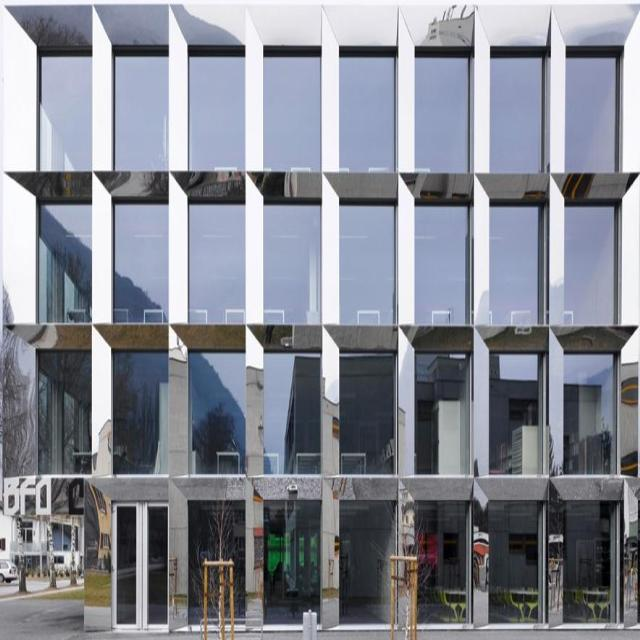door: (110, 506, 171, 635)
window: (113, 349, 167, 475), (265, 352, 320, 472), (39, 49, 93, 171), (191, 51, 245, 173), (341, 51, 395, 173), (492, 53, 546, 175), (37, 200, 91, 322), (189, 202, 243, 324), (339, 202, 393, 324), (491, 204, 545, 326), (191, 351, 245, 473), (340, 352, 394, 474), (489, 356, 543, 478), (265, 498, 319, 620), (189, 502, 243, 624), (113, 46, 167, 167), (265, 48, 319, 169), (415, 48, 469, 169), (567, 50, 621, 171), (111, 197, 165, 318), (263, 199, 317, 320), (413, 199, 467, 320), (565, 201, 619, 322), (35, 352, 89, 473), (413, 353, 467, 474), (563, 352, 617, 473), (565, 507, 619, 628), (485, 506, 539, 627), (415, 501, 469, 622), (341, 506, 395, 627)
